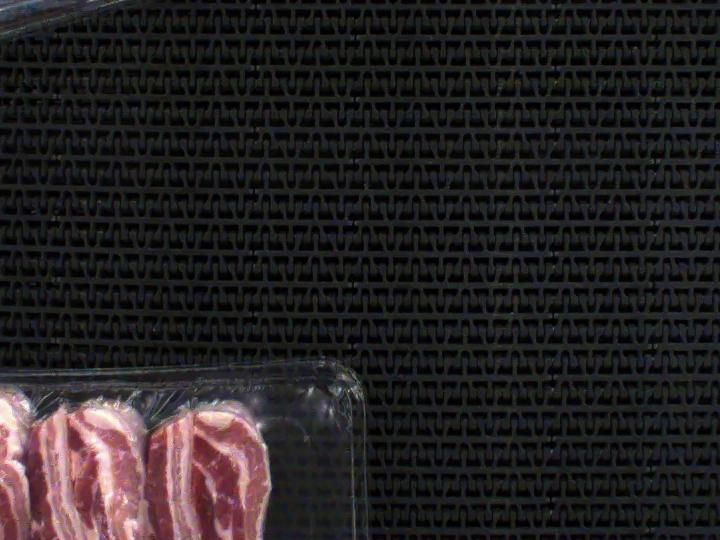unsealed: (0, 375, 364, 465)
